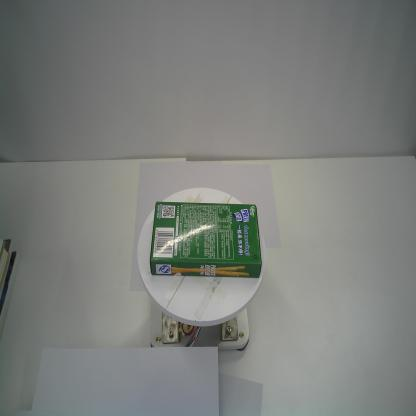Dessert: (149, 200, 262, 278)
